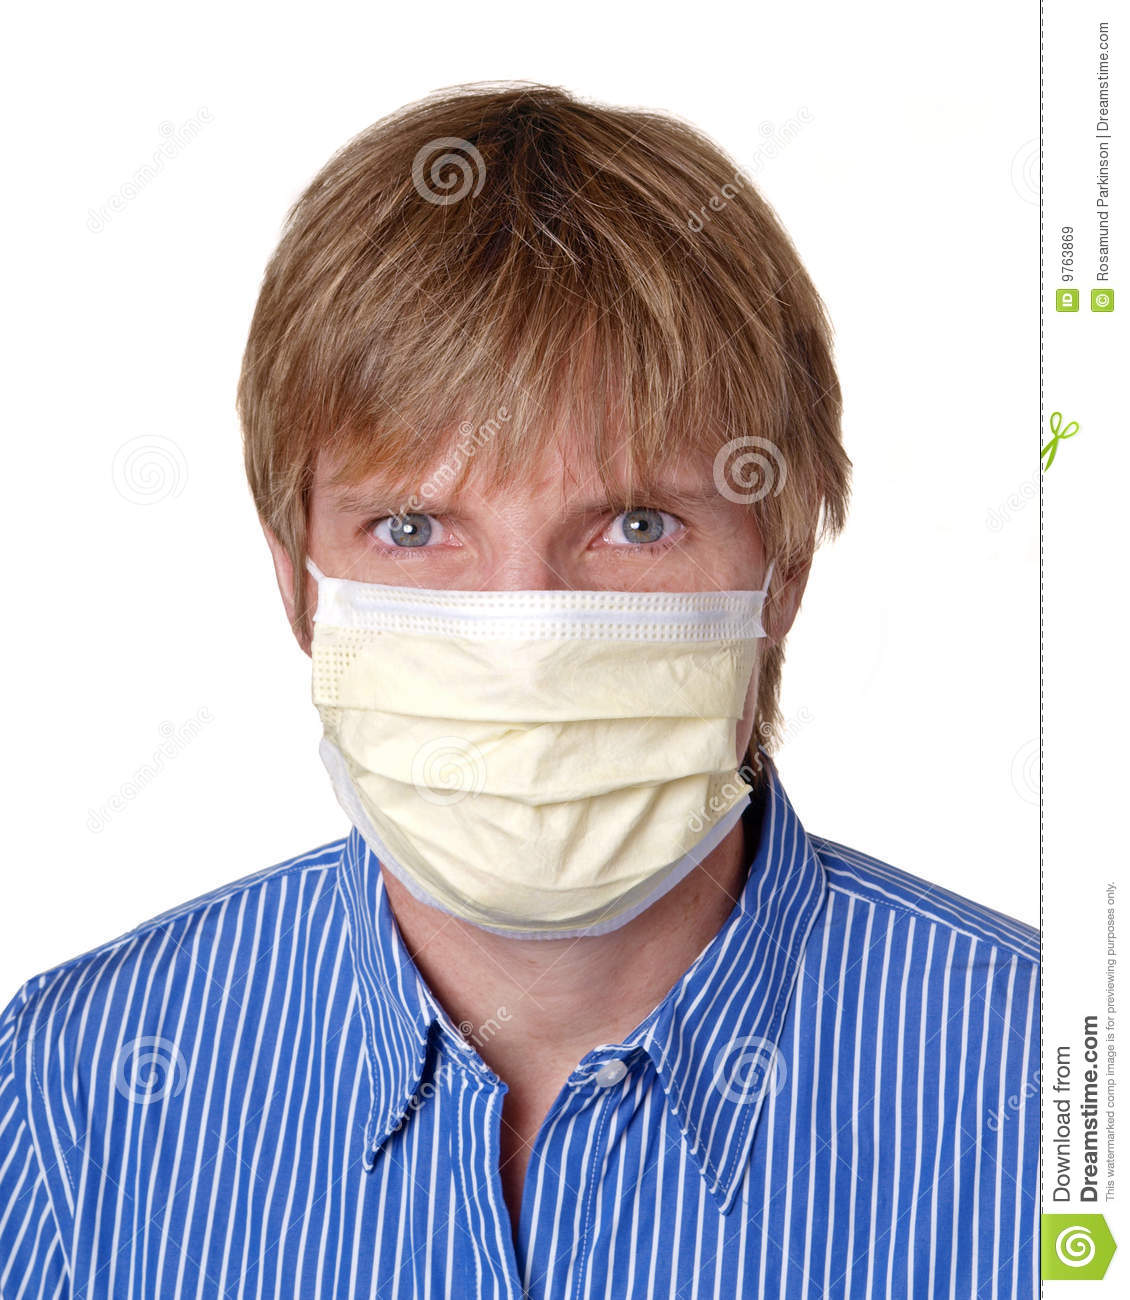mask: (305, 595, 807, 889)
